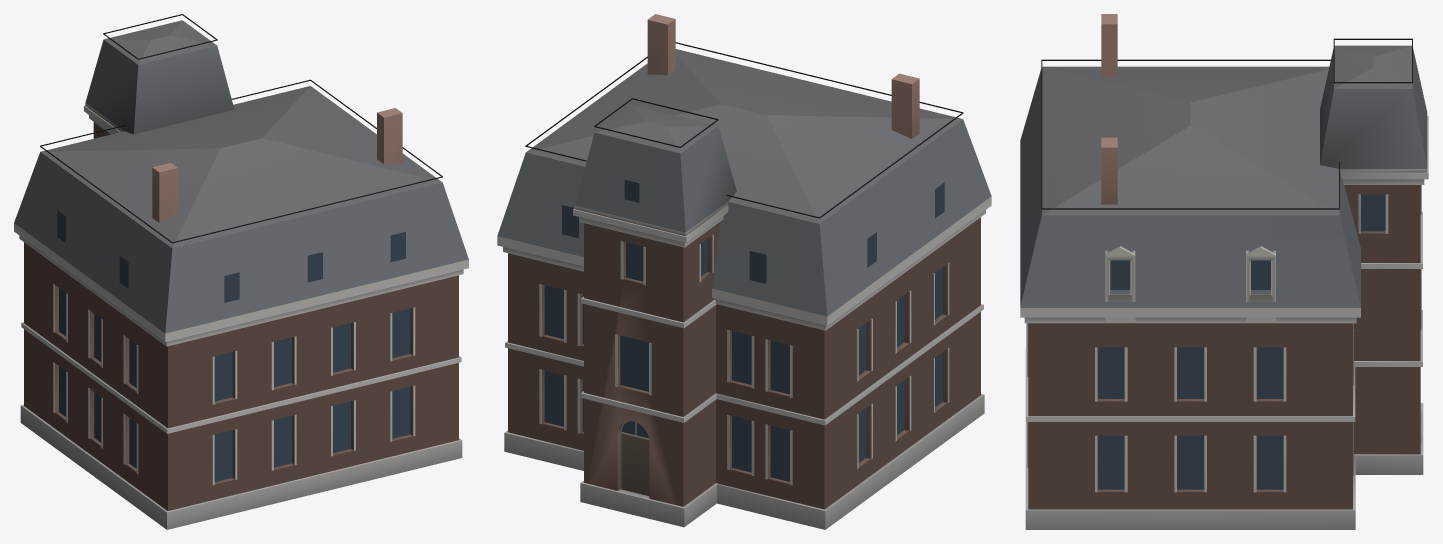
Rendered from second-empire-mansion_lod1.glb.
3 renders of one model, left to right at view 1: azimuth 30°, elevation 25°; view 2: azimuth 150°, elevation 25°; view 3: azimuth 270°, elevation 25°, orthographic. The views are drawn at different scales.
Parts seen in each view (by area): view 1: second-empire-mansion_lod1; view 2: second-empire-mansion_lod1; view 3: second-empire-mansion_lod1.
Boxes of the visible parts, bbox=[...] form: second-empire-mansion_lod1: bbox=[14, 14, 468, 529]; second-empire-mansion_lod1: bbox=[497, 14, 991, 529]; second-empire-mansion_lod1: bbox=[1020, 14, 1428, 529].
Size of the model in its own units: 14.6 by 15.83 by 15.1.
